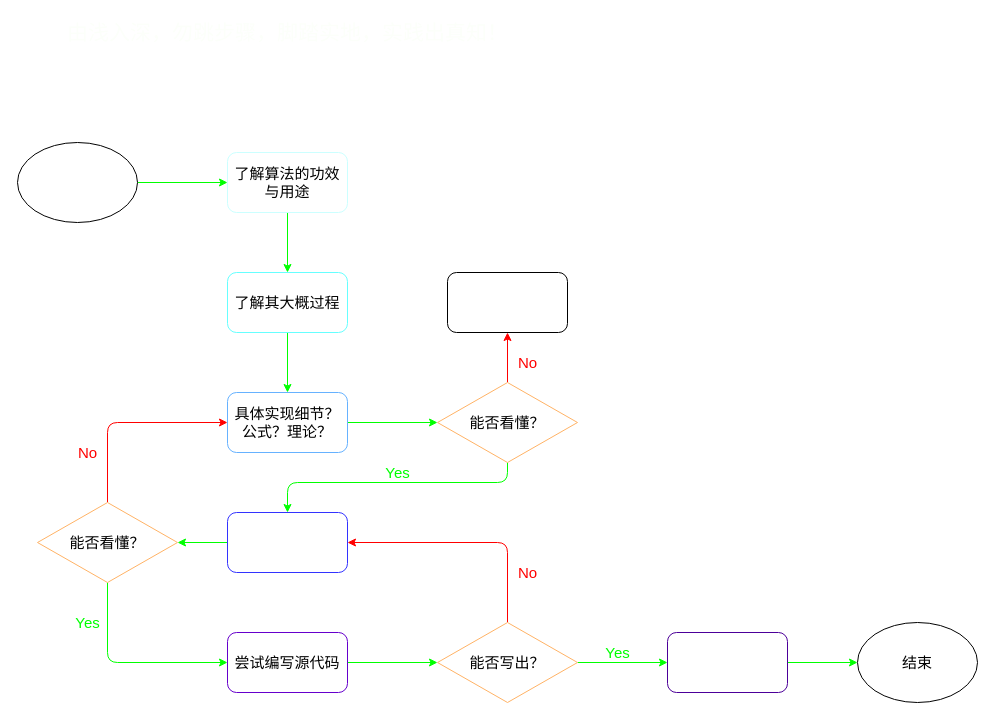
This 995x720 diagram has some shape labels left out. The shapes that lost their labels are listed below. From the top down, each one's box as (x1, y1, x2, y2) in pixels, then its label:
(16, 142, 138, 222): 开始
(446, 272, 568, 332): 网上搜资料 八面受敌法
(226, 512, 348, 572): 阅读源代码
(666, 632, 788, 692): 使用源代码实践
